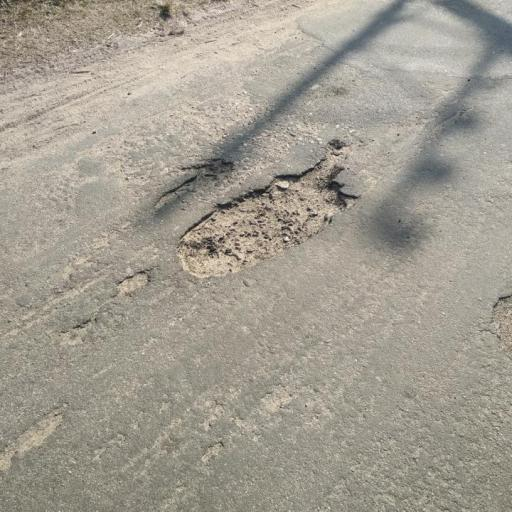hole: (170, 170, 340, 258)
